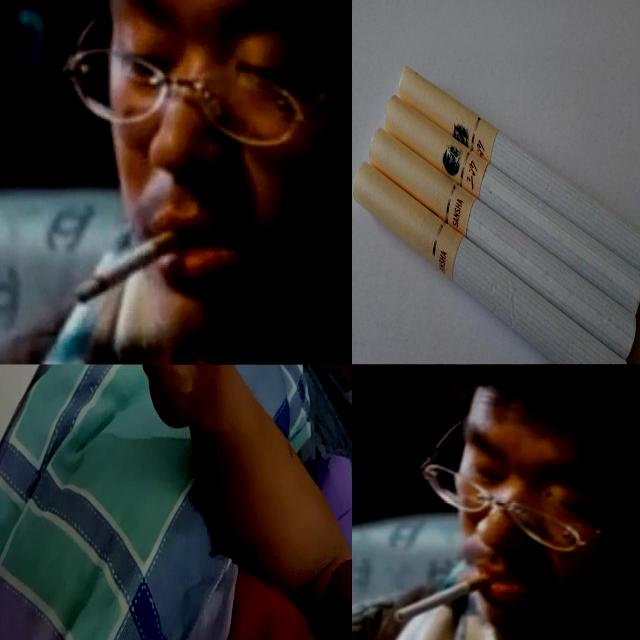cigarette: (369, 126, 637, 362), (384, 94, 640, 318), (352, 160, 629, 364), (398, 64, 640, 274), (74, 225, 185, 303), (392, 571, 493, 623)
